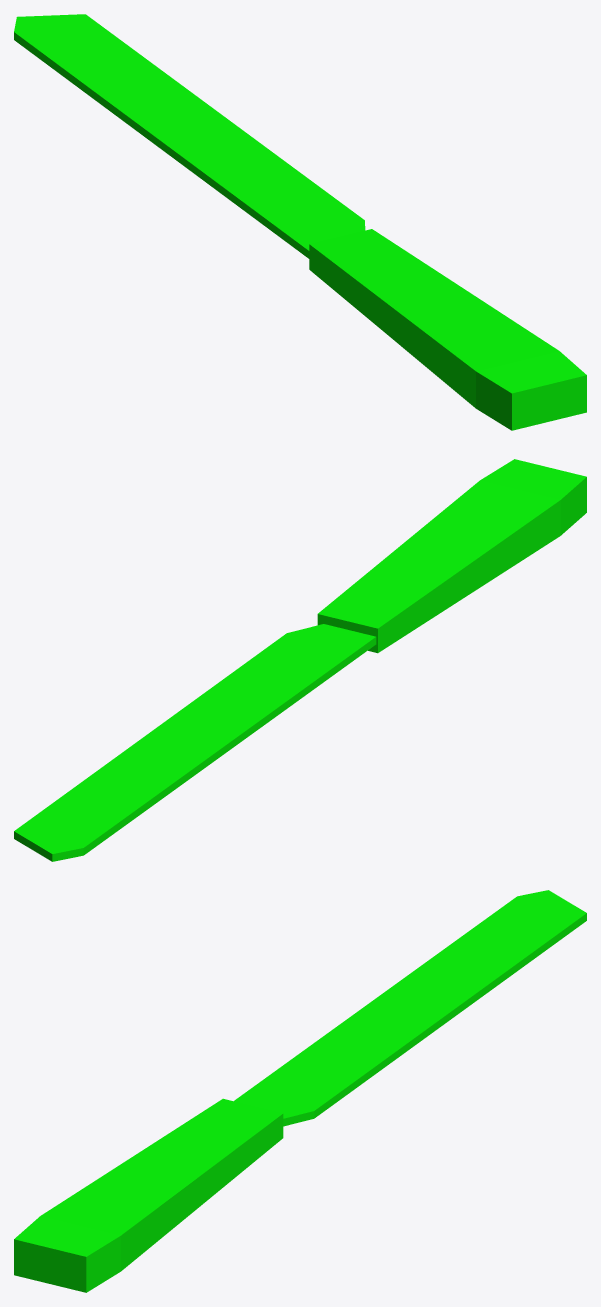
File: SM_Knife_04_Collider.fbx
The picture shows the model from 3 angles, top to bottom: view 1: azimuth 30°, elevation 25°; view 2: azimuth 150°, elevation 25°; view 3: azimuth 330°, elevation 25°; orthographic projection. The views are drawn at different scales.
Parts seen in each view (by area): view 1: SM_Knife_04_Collider; view 2: SM_Knife_04_Collider; view 3: SM_Knife_04_Collider.
Part boxes in pixels (x1,y1,x2,y2): SM_Knife_04_Collider: (14,14,586,430); SM_Knife_04_Collider: (14,459,586,861); SM_Knife_04_Collider: (14,890,586,1292).
Bounding box in the file's own units: 4.37 × 1.77 × 45.03.
